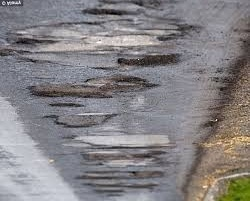pothole: (1, 18, 197, 59), (26, 67, 165, 98), (38, 107, 123, 130), (67, 132, 179, 149), (75, 165, 166, 182), (80, 145, 169, 162), (117, 53, 187, 68), (81, 181, 168, 188), (82, 7, 135, 16), (47, 101, 87, 108), (93, 188, 127, 195), (105, 193, 125, 199)
